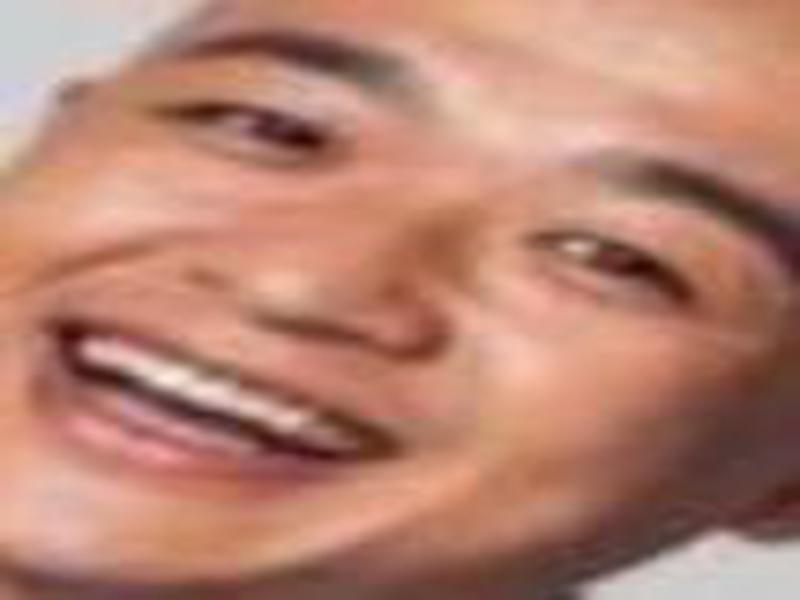without_mask: (4, 2, 797, 600)
